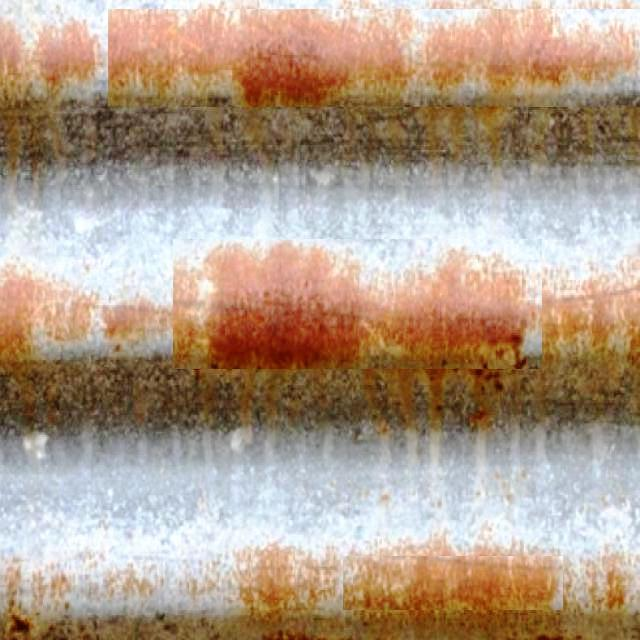Corrosion: (171, 242, 640, 368), (106, 7, 640, 106), (227, 546, 640, 614), (0, 20, 98, 102), (0, 283, 94, 354), (102, 301, 169, 348)
